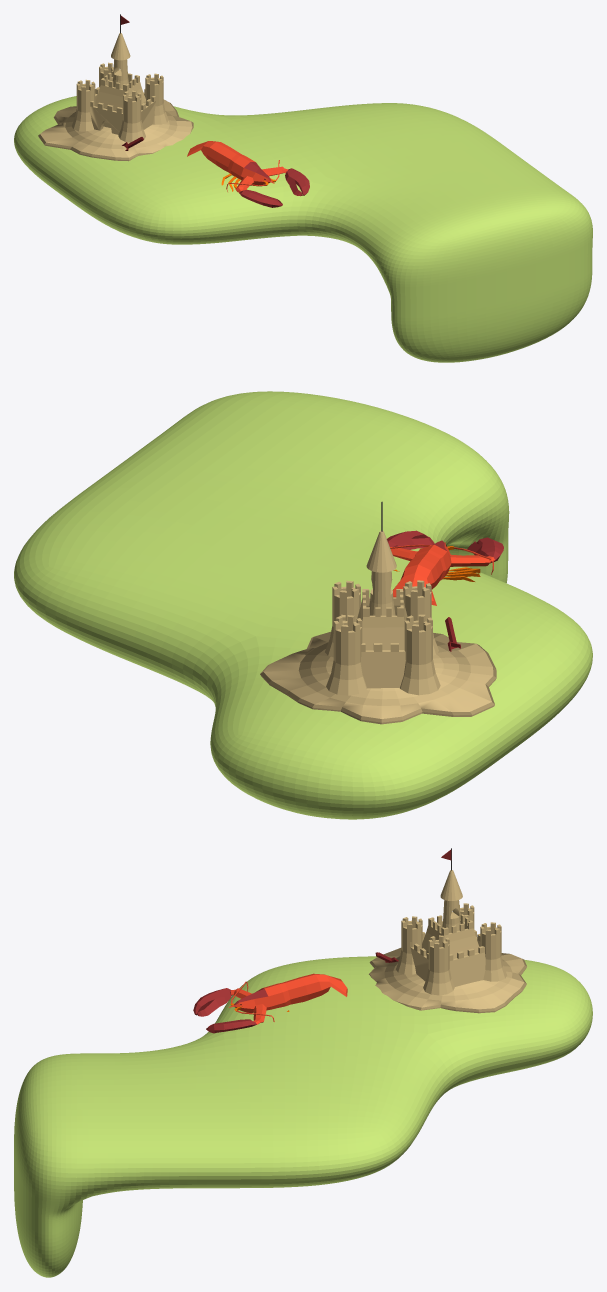
Rendered from Sand.glb.
3 renders of one model, top to bottom at view 1: azimuth 30°, elevation 25°; view 2: azimuth 150°, elevation 25°; view 3: azimuth 270°, elevation 25°, orthographic. The views are drawn at different scales.
Visible parts, largest first — view 1: Cube.014, Box002, Sphere001, Geo_Lobster; view 2: Cube.014, Box002, Sphere001, Geo_Lobster; view 3: Cube.014, Box002, Sphere001, Geo_Lobster.
Part boxes in pixels (x1,y1,x2,y2): Cube.014: (14,96,592,362); Box002: (71,14,168,142); Sphere001: (38,99,193,161); Geo_Lobster: (187,141,309,207); Cube.014: (14,391,592,819); Box002: (325,501,440,695); Sphere001: (260,631,496,724); Geo_Lobster: (387,530,503,605); Cube.014: (14,956,592,1277); Box002: (396,848,507,995); Sphere001: (369,948,526,1013); Geo_Lobster: (193,973,347,1033).
Size of the model in its own units: 4.32 by 2.86 by 5.09.
5 materials, 1 textured.
